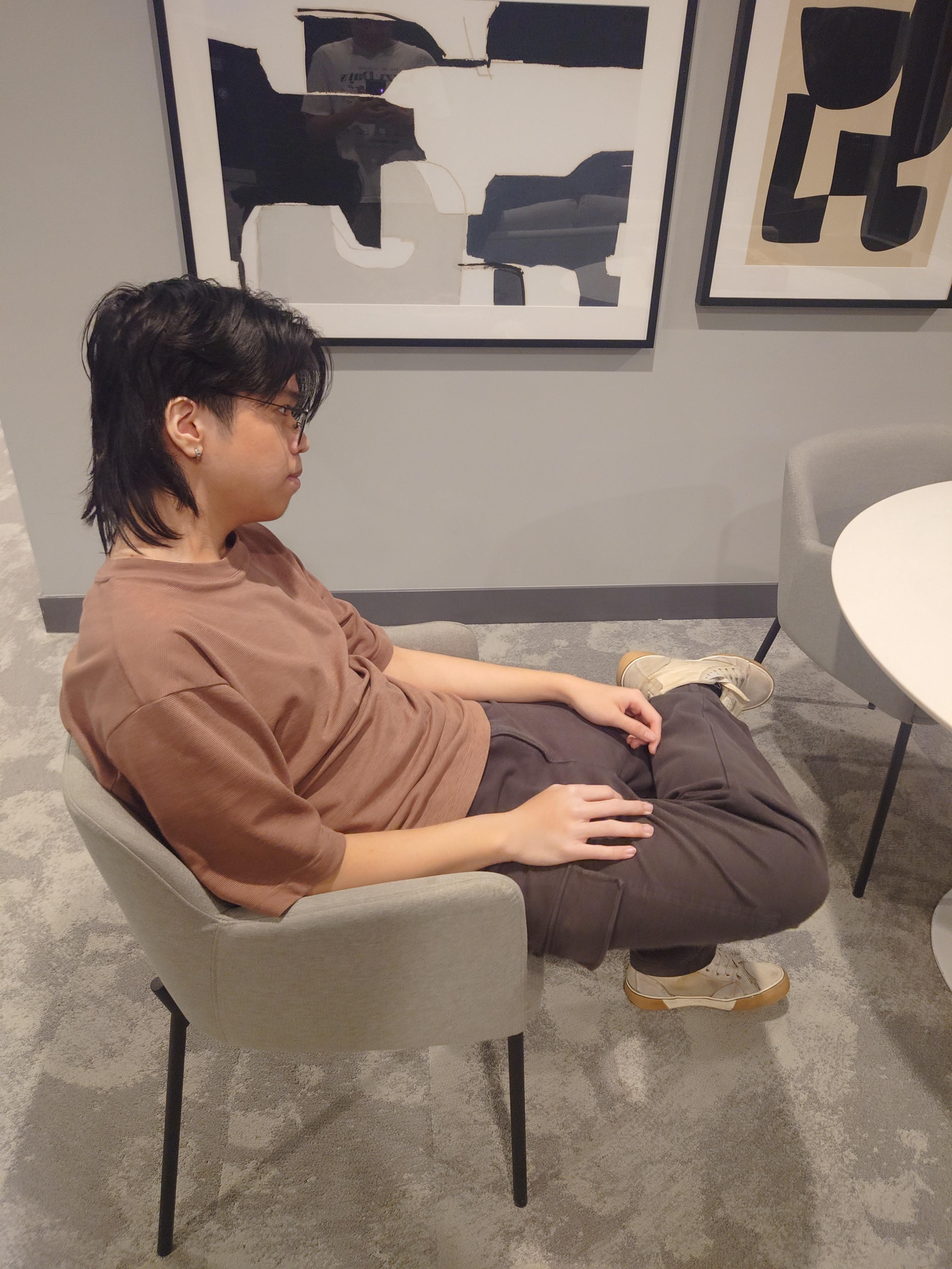BadPosture: (54, 279, 828, 1014)
